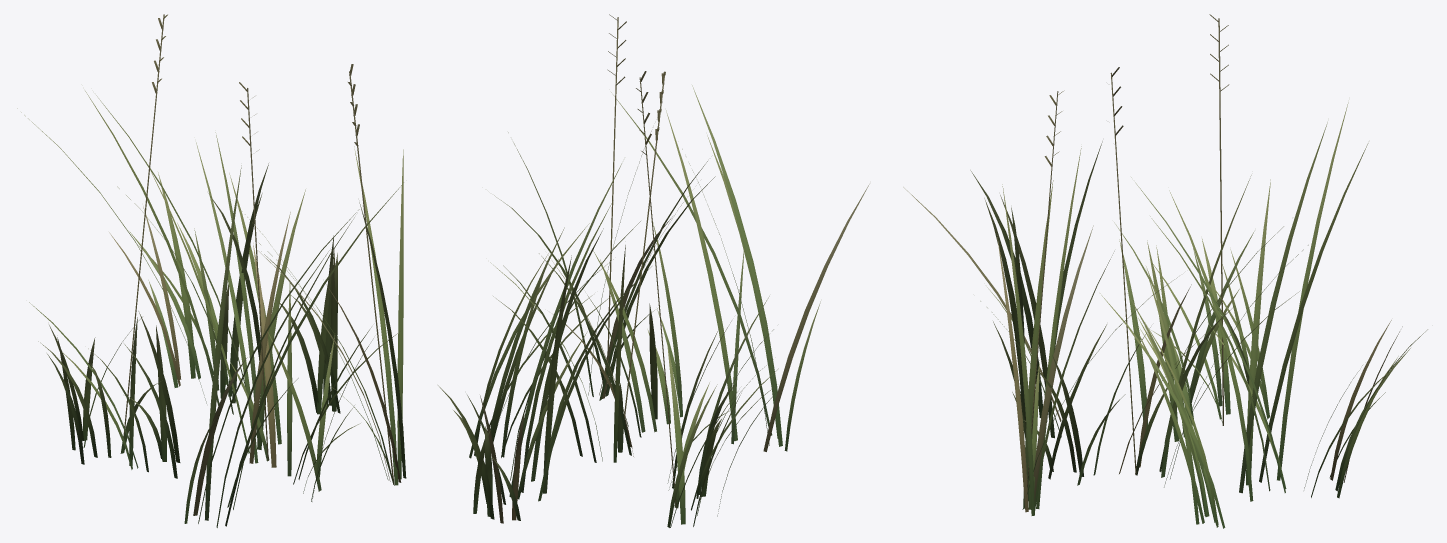
Rendered from woodland_sedges.gltf.
3 renders of one model, left to right at view 1: azimuth 30°, elevation 25°; view 2: azimuth 150°, elevation 25°; view 3: azimuth 270°, elevation 25°, orthographic. The views are drawn at different scales.
Visible parts, largest first — view 1: woodland_sedges; view 2: woodland_sedges; view 3: woodland_sedges.
Part boxes in pixels (x1,y1,x2,y2): woodland_sedges: (17,14,406,527); woodland_sedges: (438,14,869,527); woodland_sedges: (903,14,1427,528).
Size of the model in its own units: 0.9804 by 1.26 by 1.41.
Materials: 3 (3 with a texture image).
